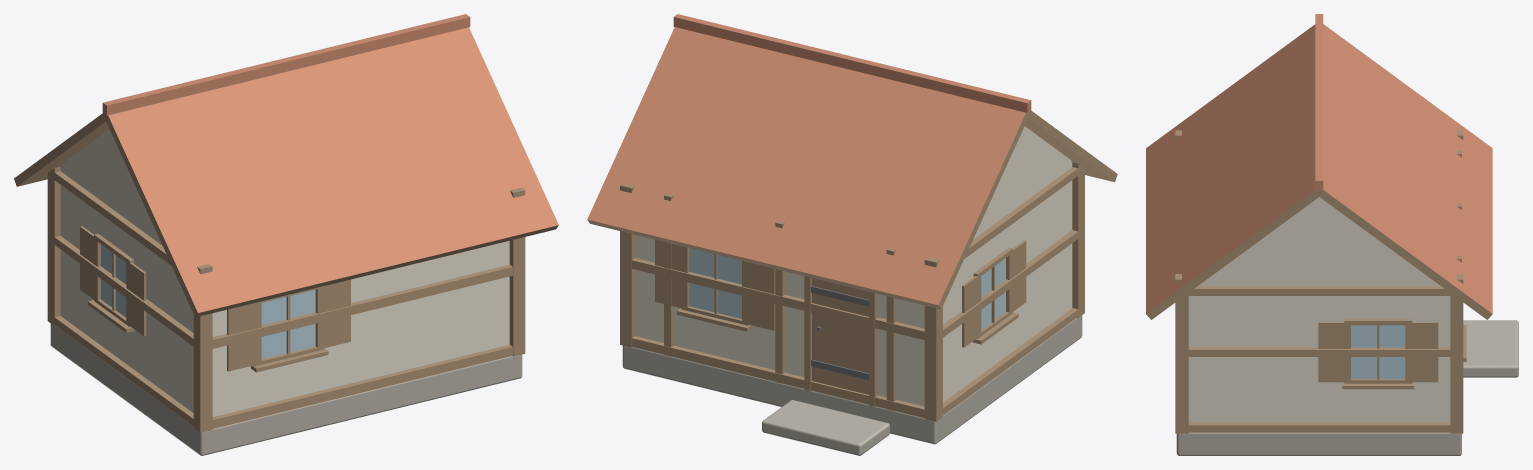
The model's file is house_cottage.glb.
The picture shows the model from 3 angles, left to right: view 1: azimuth 30°, elevation 25°; view 2: azimuth 150°, elevation 25°; view 3: azimuth 270°, elevation 25°; orthographic projection. The views are drawn at different scales.
Parts seen in each view (by area): view 1: House; view 2: House; view 3: House.
Part boxes in pixels (bbox=[...]): House: bbox=[14, 14, 558, 455]; House: bbox=[587, 14, 1117, 455]; House: bbox=[1146, 14, 1518, 455].
Size of the model in its own units: 6.04 by 4.83 by 5.7.
